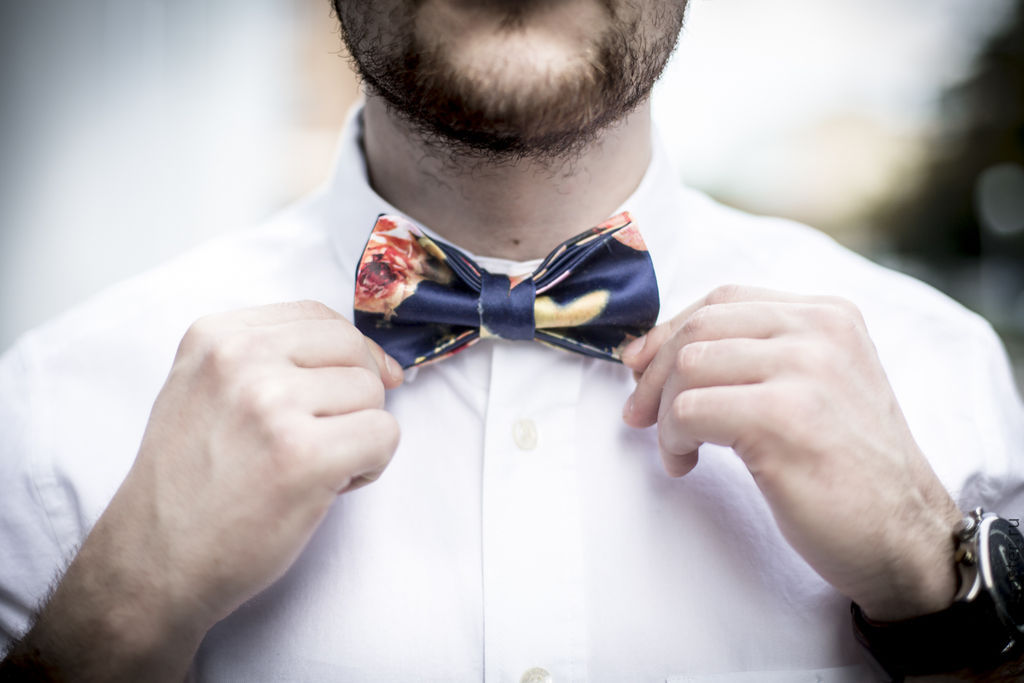bow: (336, 206, 678, 395)
